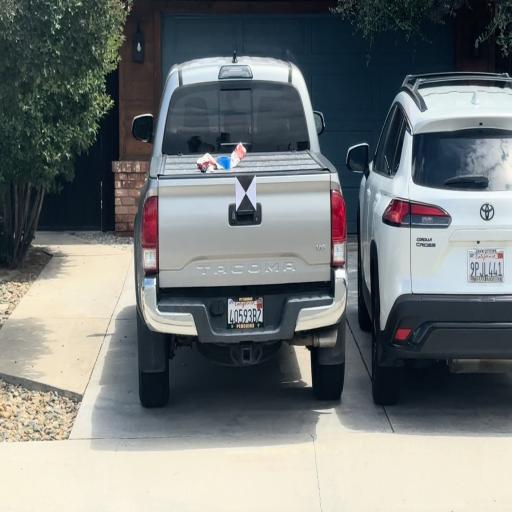target: (236, 176, 256, 211)
